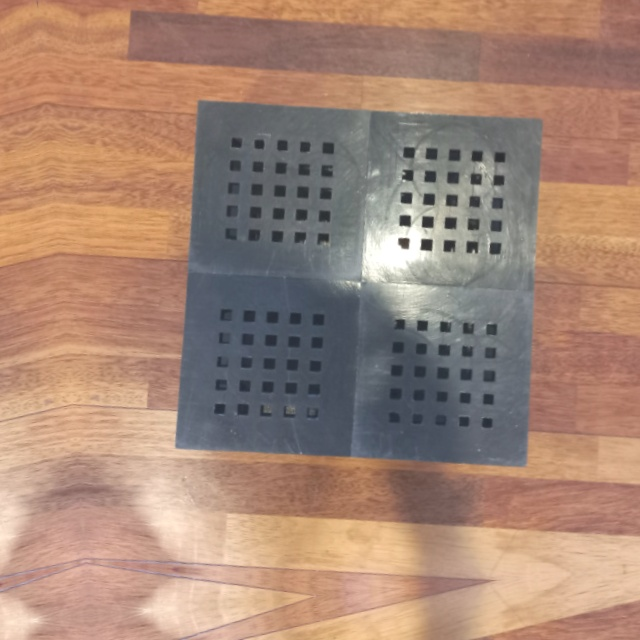pallet: (175, 78, 560, 480)
